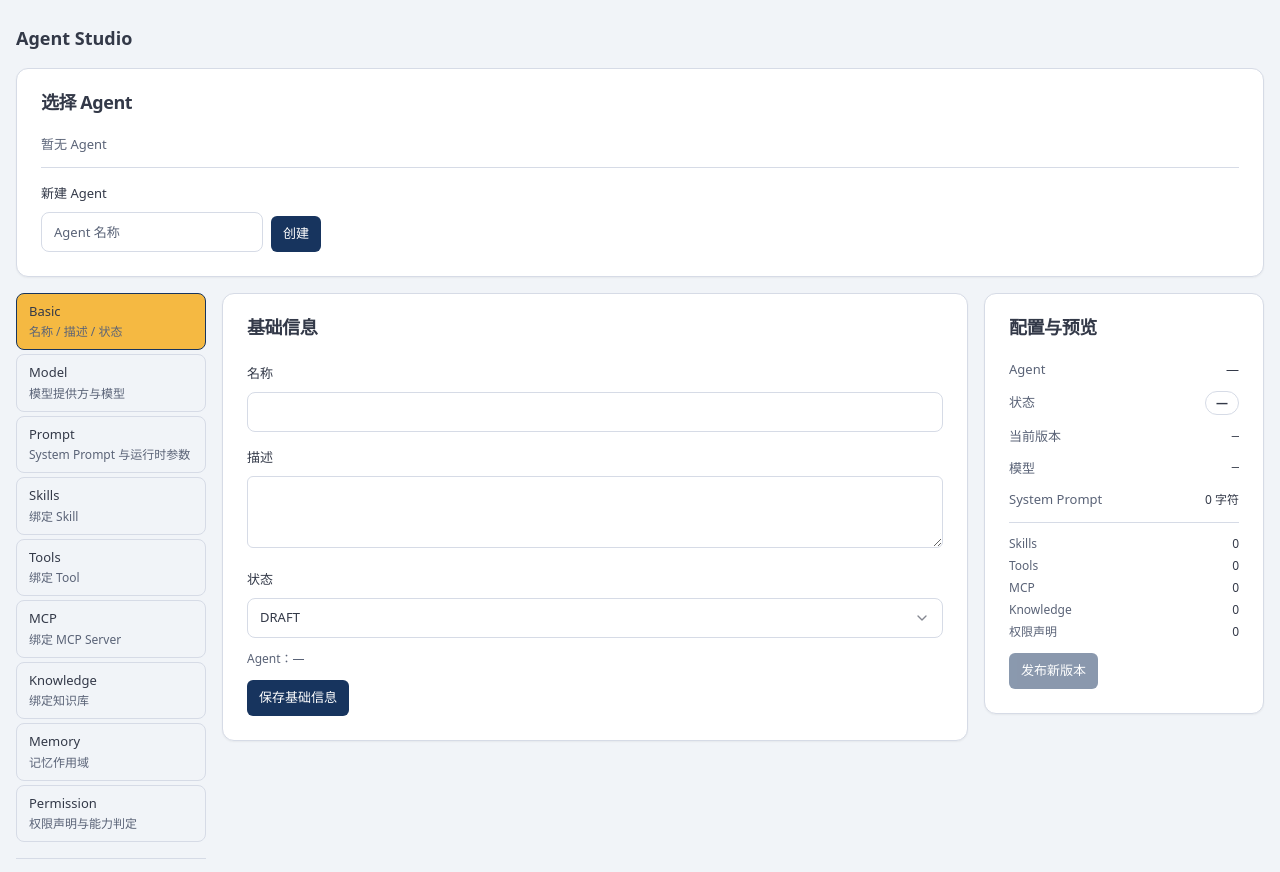
Test: AgentStudio › 九分区导航齐备，且可创建 / 更新 Agent（CRUD）
Expected: the button with test id "studio-nav-basic" is shown, [16,292,206,350]
Expected: the button with test id "studio-nav-skills" is shown, [16,477,206,534]
# -- 创建（C）：POST /agents --
Type "Coder" into the field with test id "studio-agent-name-input".
click(152, 232); type("Coder")  # box [41,212,263,252]
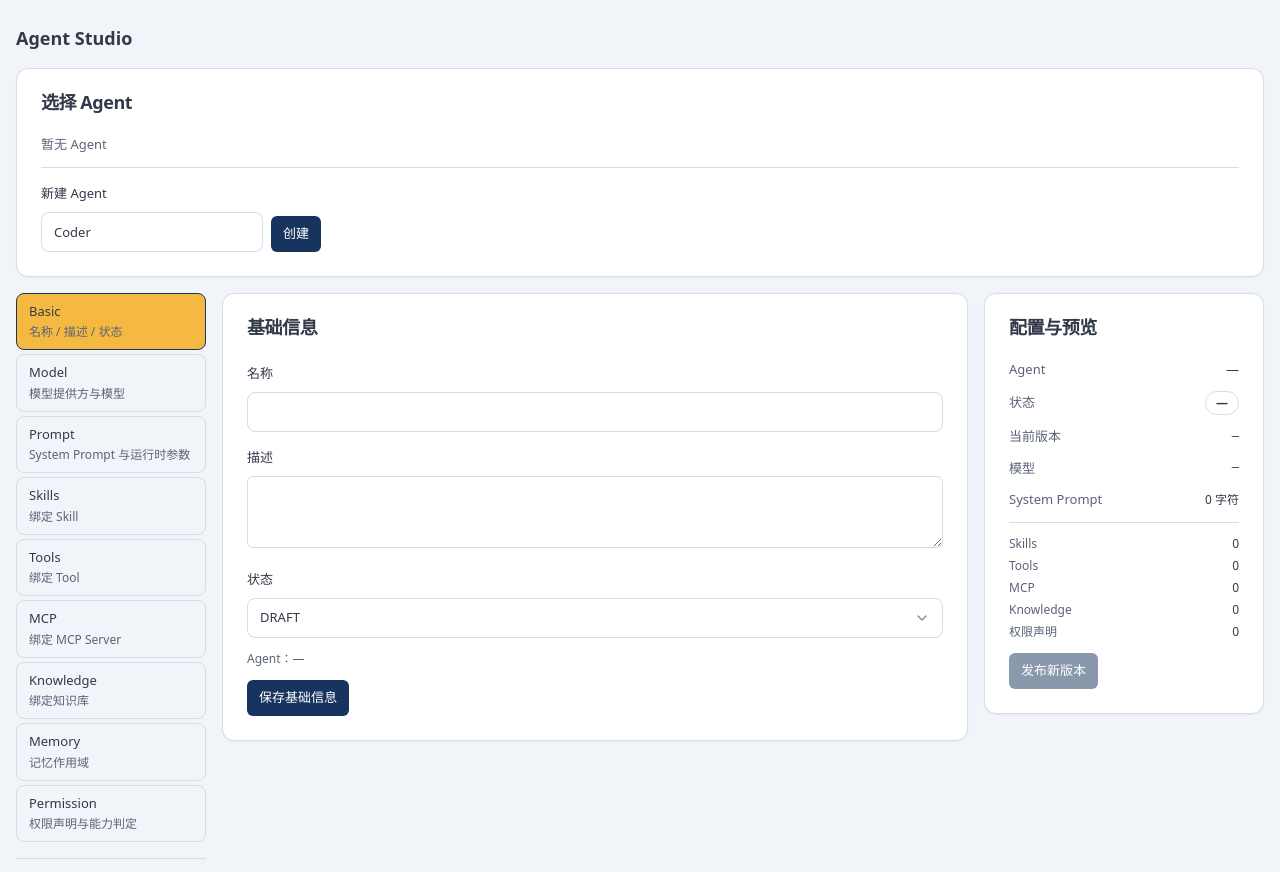
Click the button with test id "studio-create-agent".
click(296, 234)  # box [271,216,321,252]
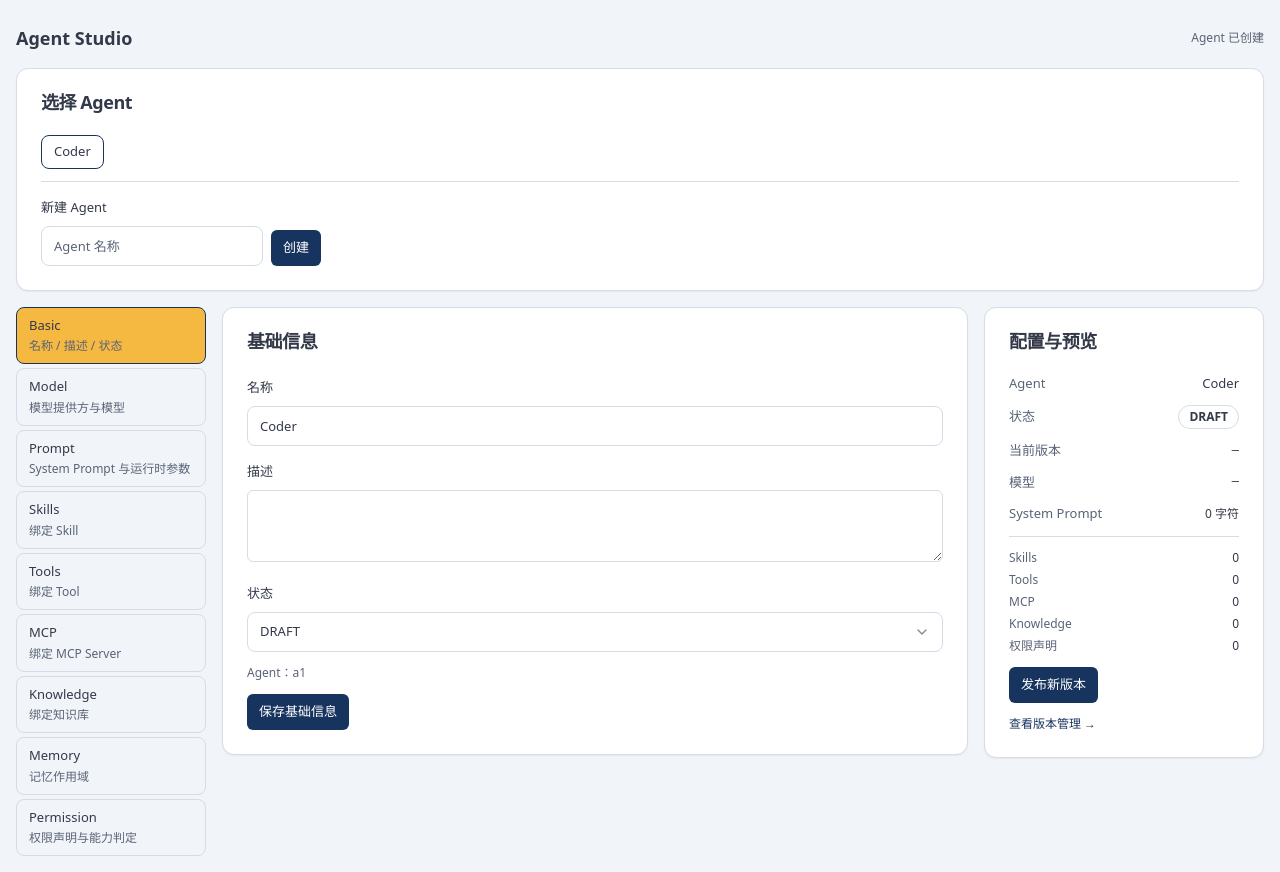
Result: the text with test id "studio-feedback" reads "Agent 已创建" at [1191,29,1264,46]
Replace the text in the field with test id "basic-name-input" with "Coder2" at (595, 426), box [247,406,943,446]
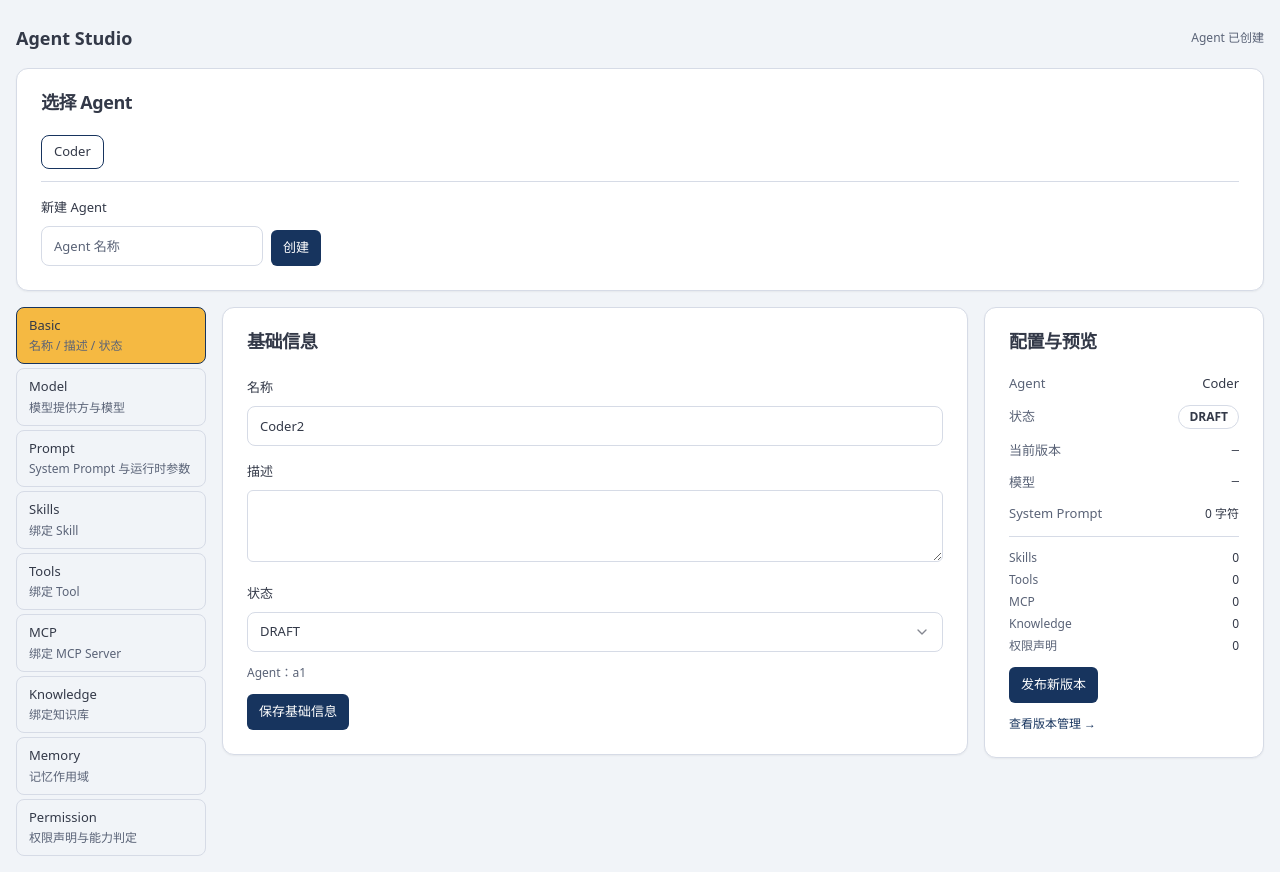
Click the button with test id "basic-save".
click(298, 712)  # box [247,694,349,730]
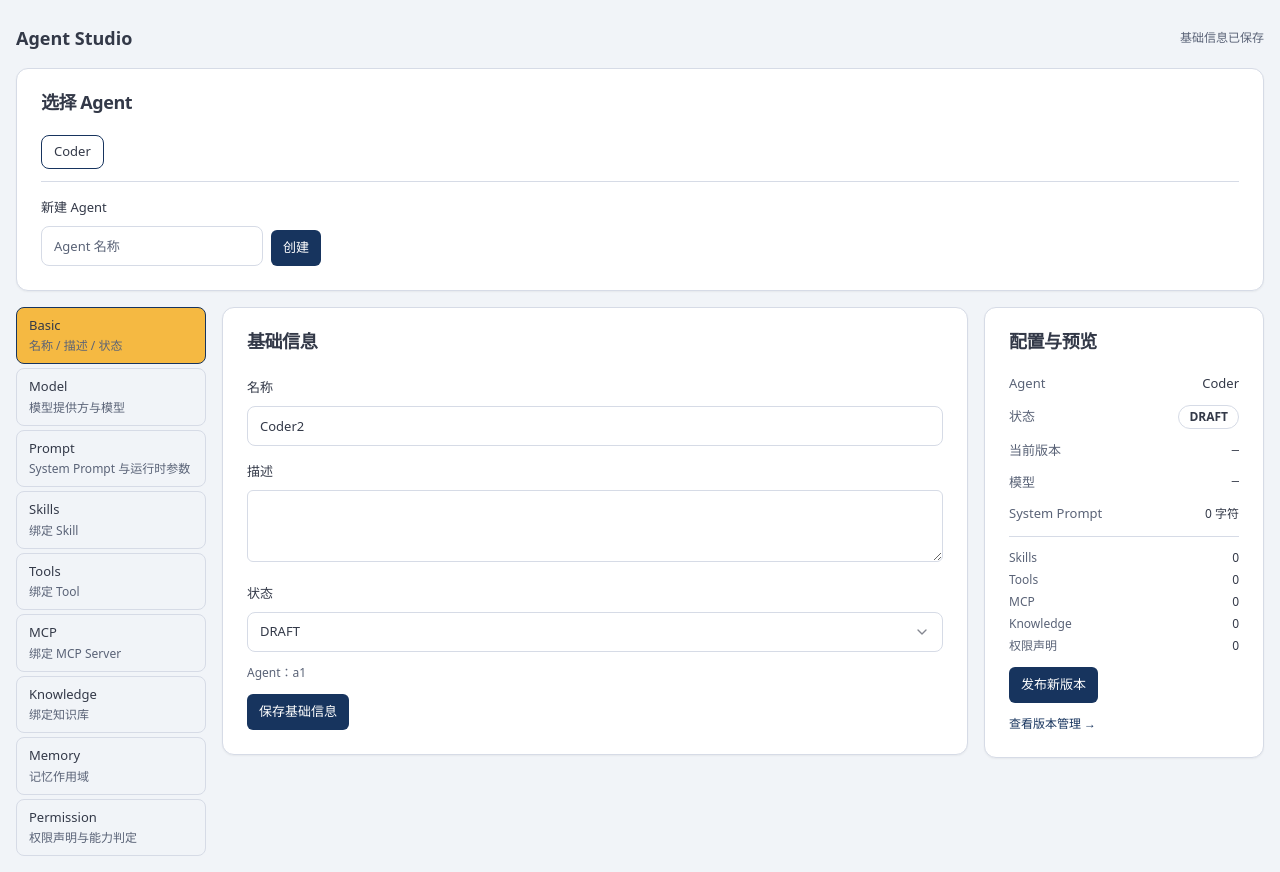
Result: the text with test id "studio-feedback" reads "基础信息已保存" at [1180,29,1264,46]
